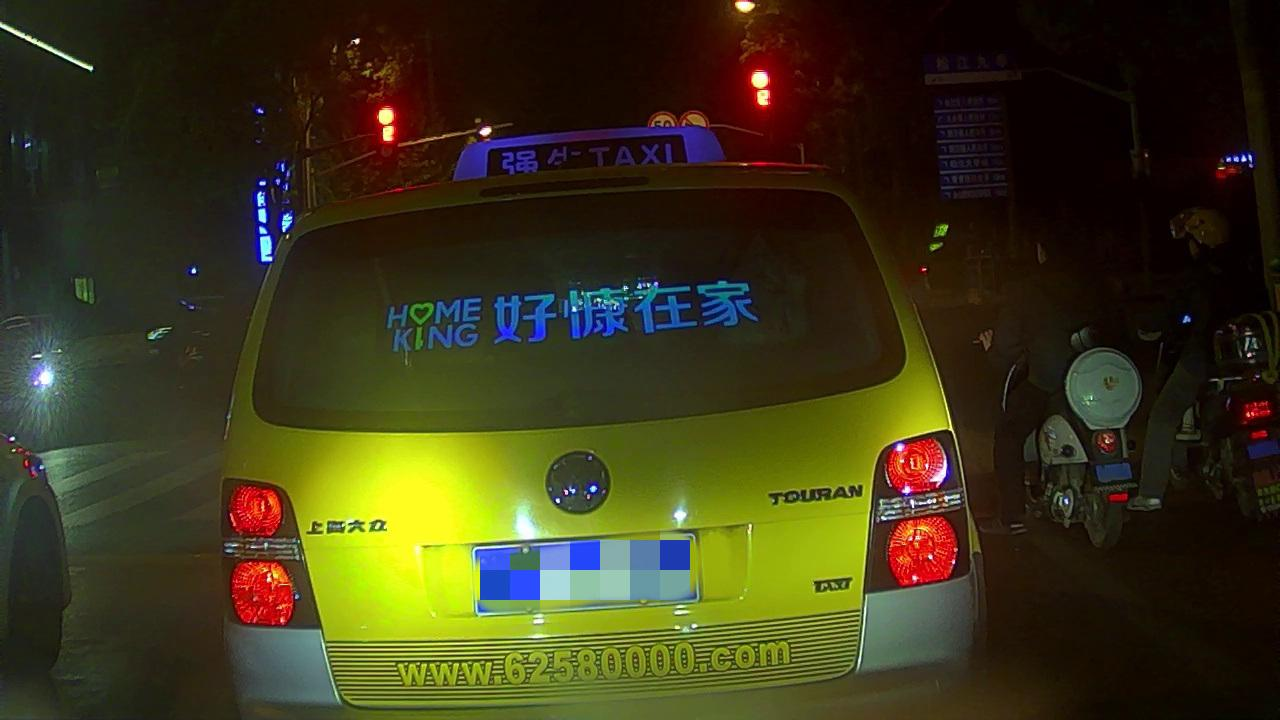traffic_light: (745, 63, 777, 115), (374, 102, 401, 146)
